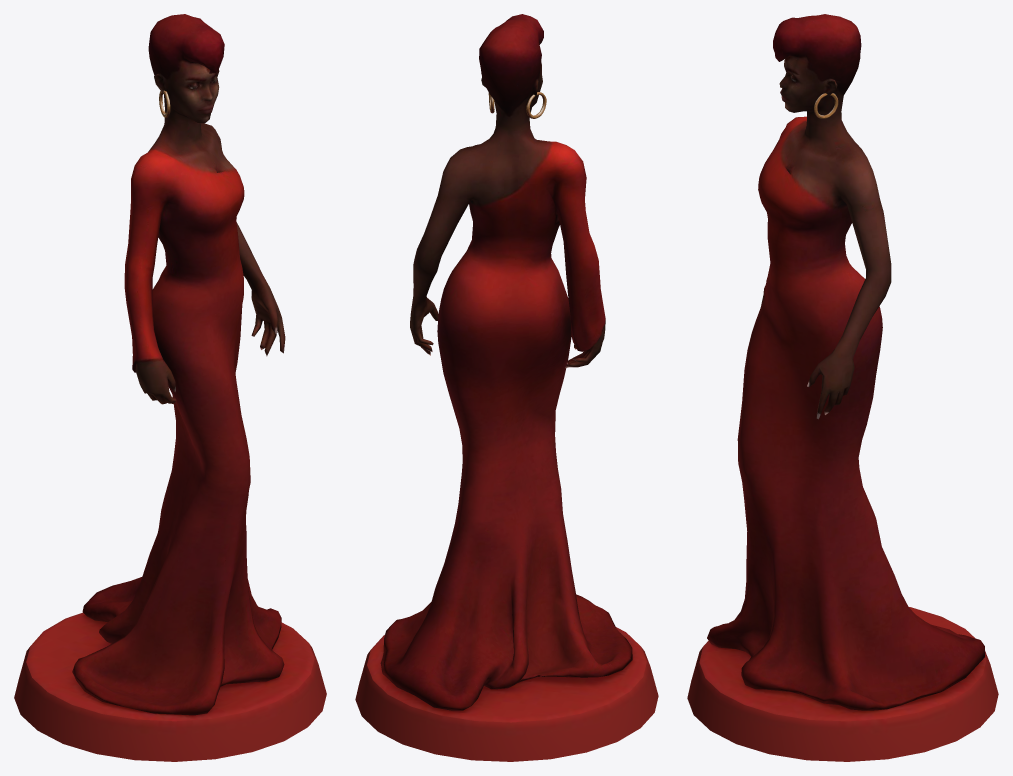
The model's file is crimson_main.obj.
3 renders of one model, left to right at view 1: azimuth 30°, elevation 25°; view 2: azimuth 150°, elevation 25°; view 3: azimuth 270°, elevation 25°, orthographic. The views are drawn at different scales.
Parts seen in each view (by area): view 1: scarletMain_0; view 2: scarletMain_0; view 3: scarletMain_0.
Part boxes in pixels (x1=…): scarletMain_0: x1=14, y1=14, x2=326, y2=761; scarletMain_0: x1=355, y1=14, x2=658, y2=761; scarletMain_0: x1=687, y1=14, x2=998, y2=761.
Bounding box in the file's own units: 0.796 × 1.92 × 0.796.
